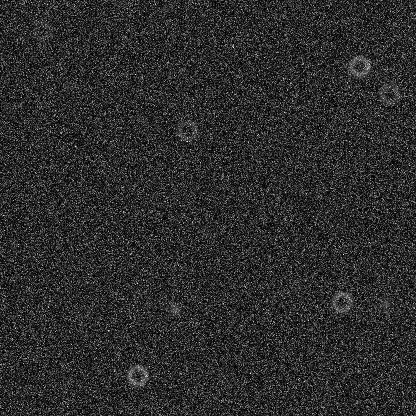Ring: (347, 54, 371, 78), (125, 363, 149, 387), (175, 118, 199, 142), (129, 286, 153, 310), (377, 82, 401, 106), (30, 18, 54, 42), (329, 289, 353, 313)
Spot: (377, 296, 393, 312), (166, 301, 182, 317)
